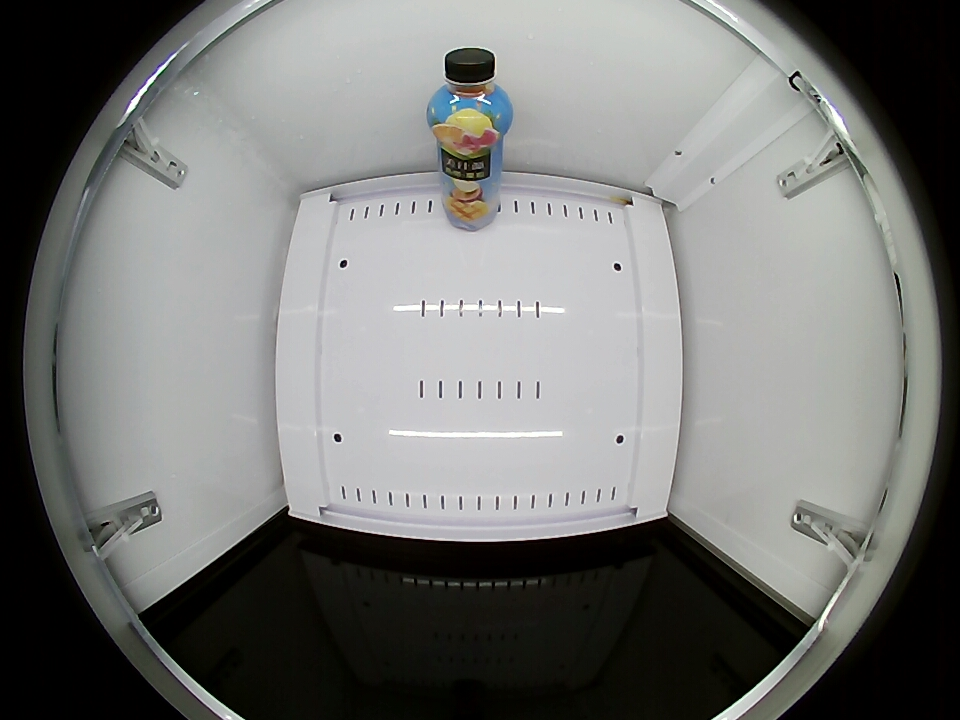guolicheng2: (428, 47, 513, 147)
